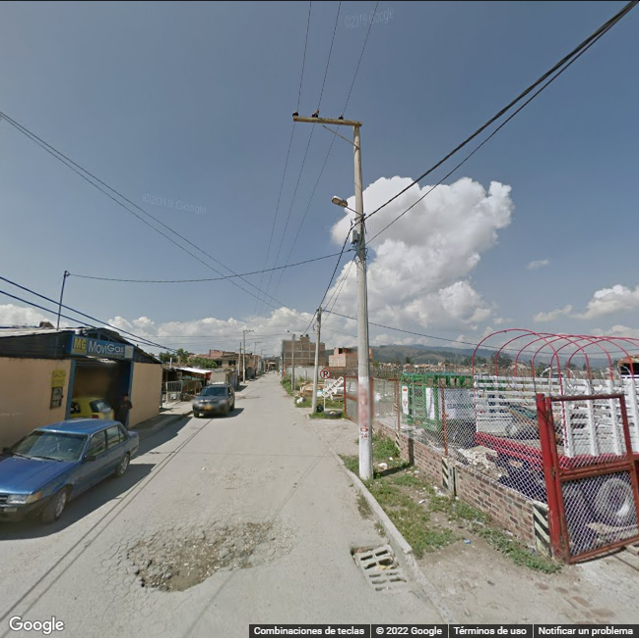D20: (101, 539, 133, 592)
D40: (142, 543, 210, 593)
